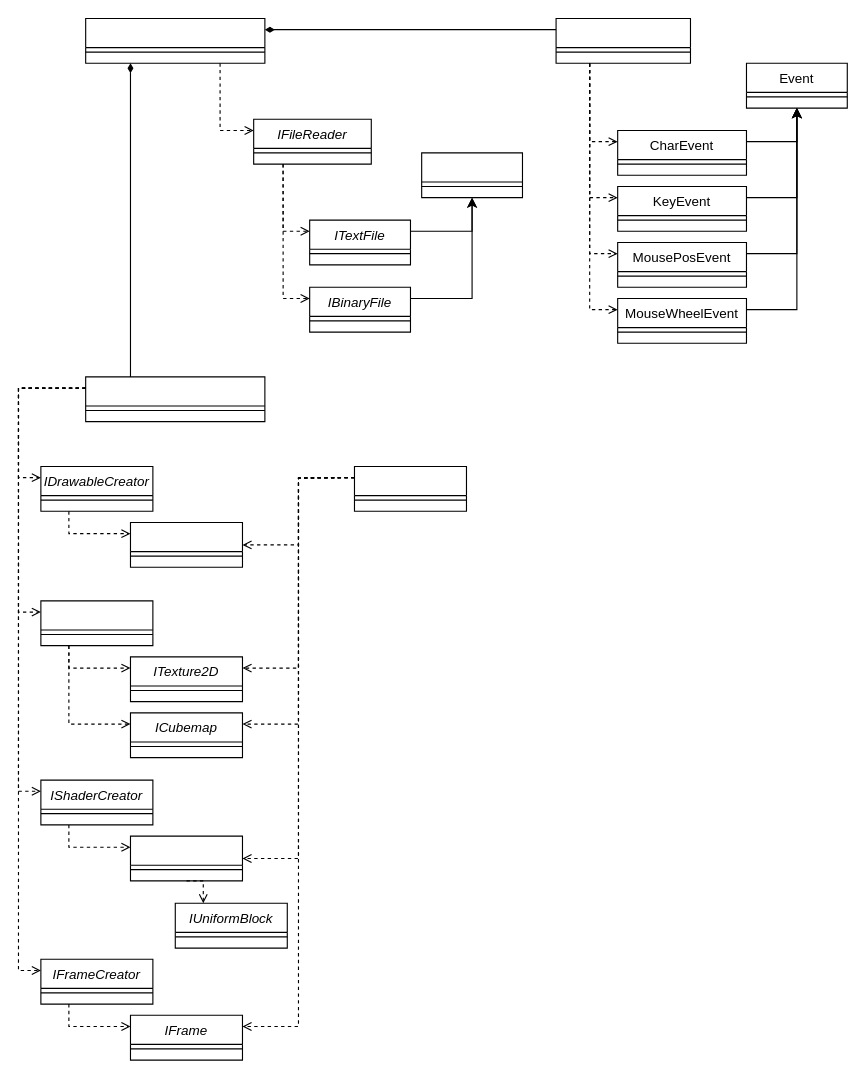
The diagram is 866 pixels wide and 1079 high, and some of its shapes have lost their labels. The centre of each missing label's shape, as x and y in pixels:
IContext: point 175,399
IDrawable: point 185,544
IFile: point 471,175
InputListener: point 622,40
IRenderer: point 409,488
IShader: point 185,858
ITextureCreator: point 96,623
IWindow: point 175,40
